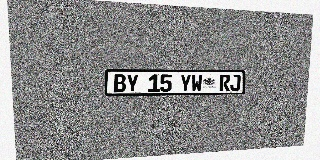plate: (105, 69, 246, 96)
